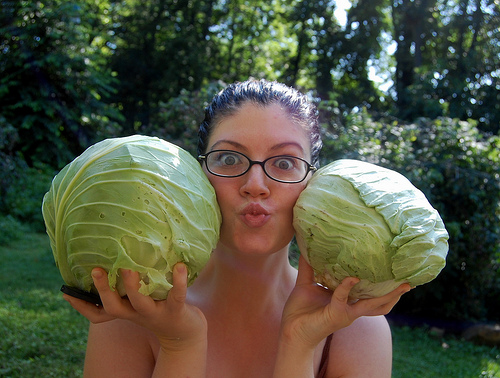cabbage: (41, 135, 220, 303), (293, 159, 450, 299)
